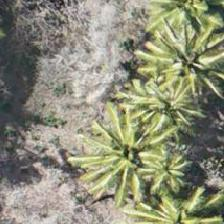coconut_tree: (106, 117, 196, 207), (143, 11, 223, 101)
